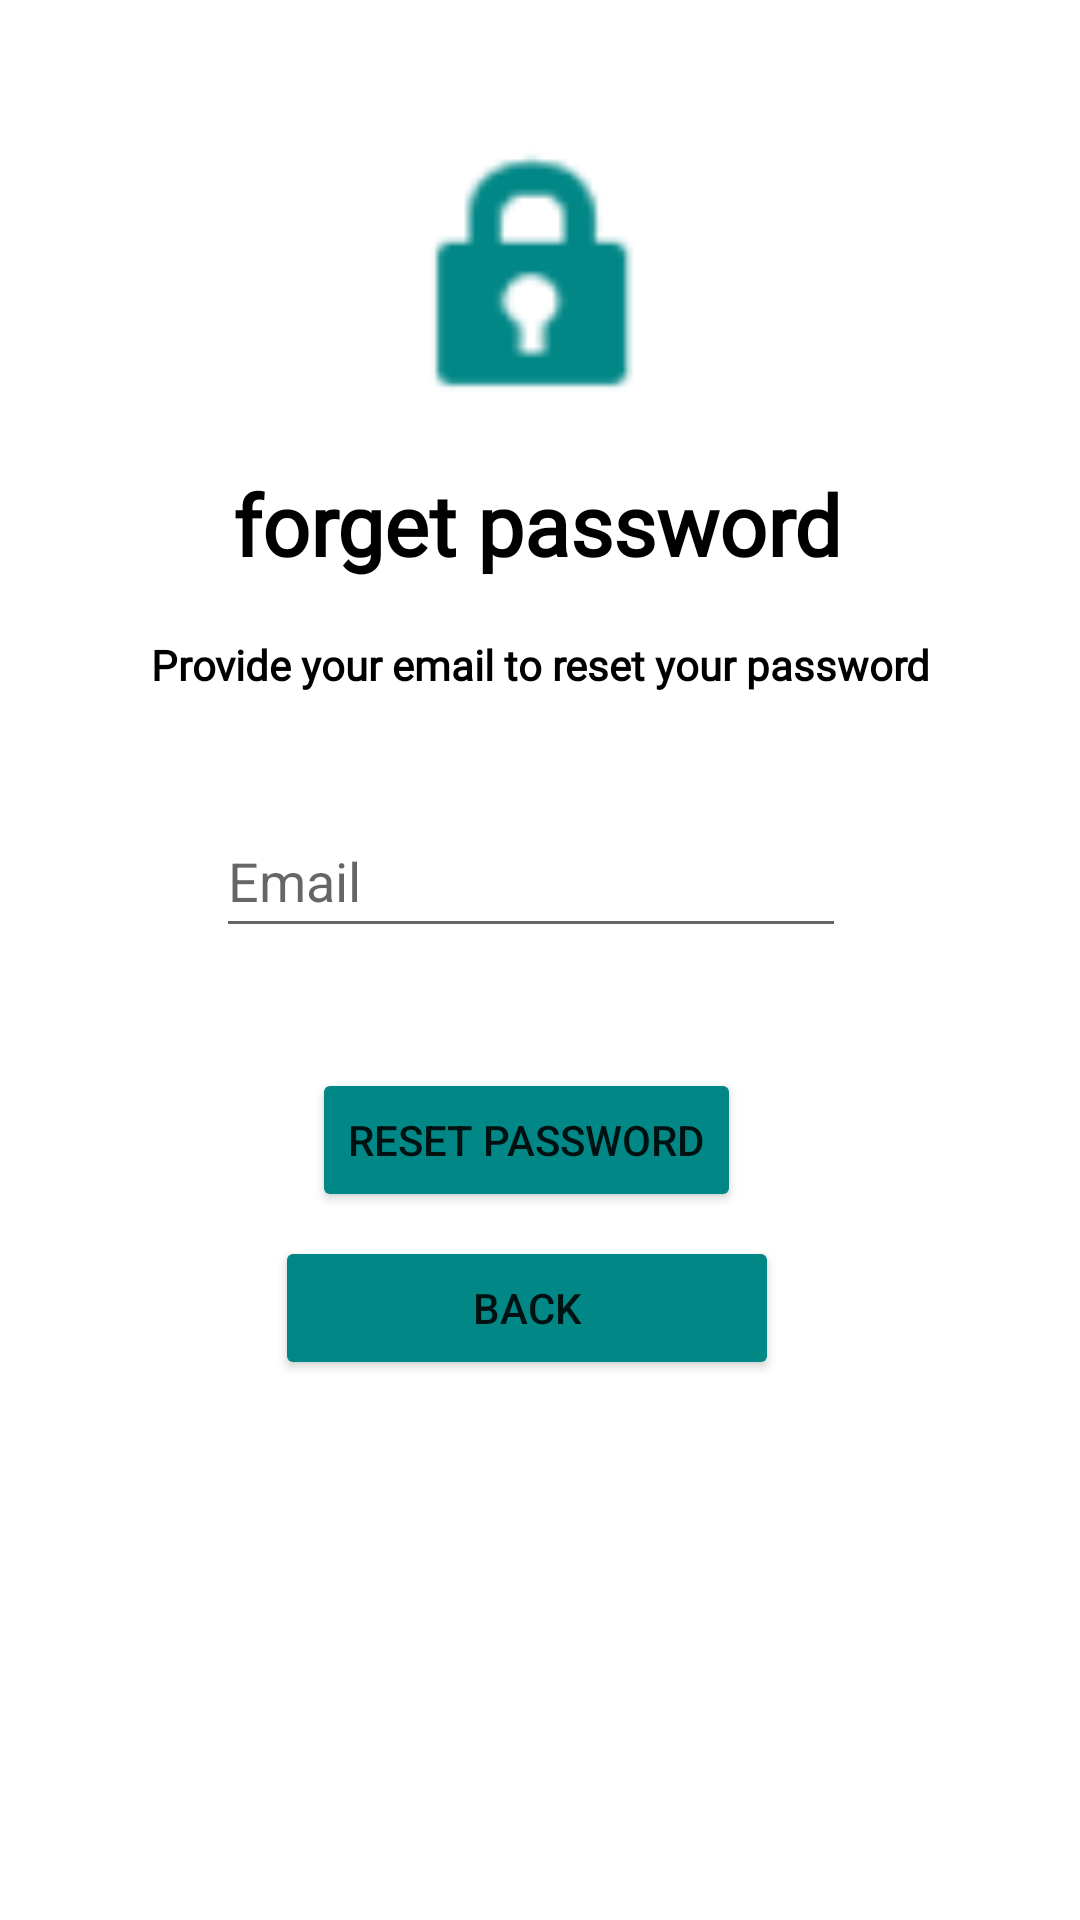

Icon bounding boxes for this 1080w x 1920h phone screenshot, format (x1, y1, x2, y2):
lock idle: (434, 156, 632, 388)
